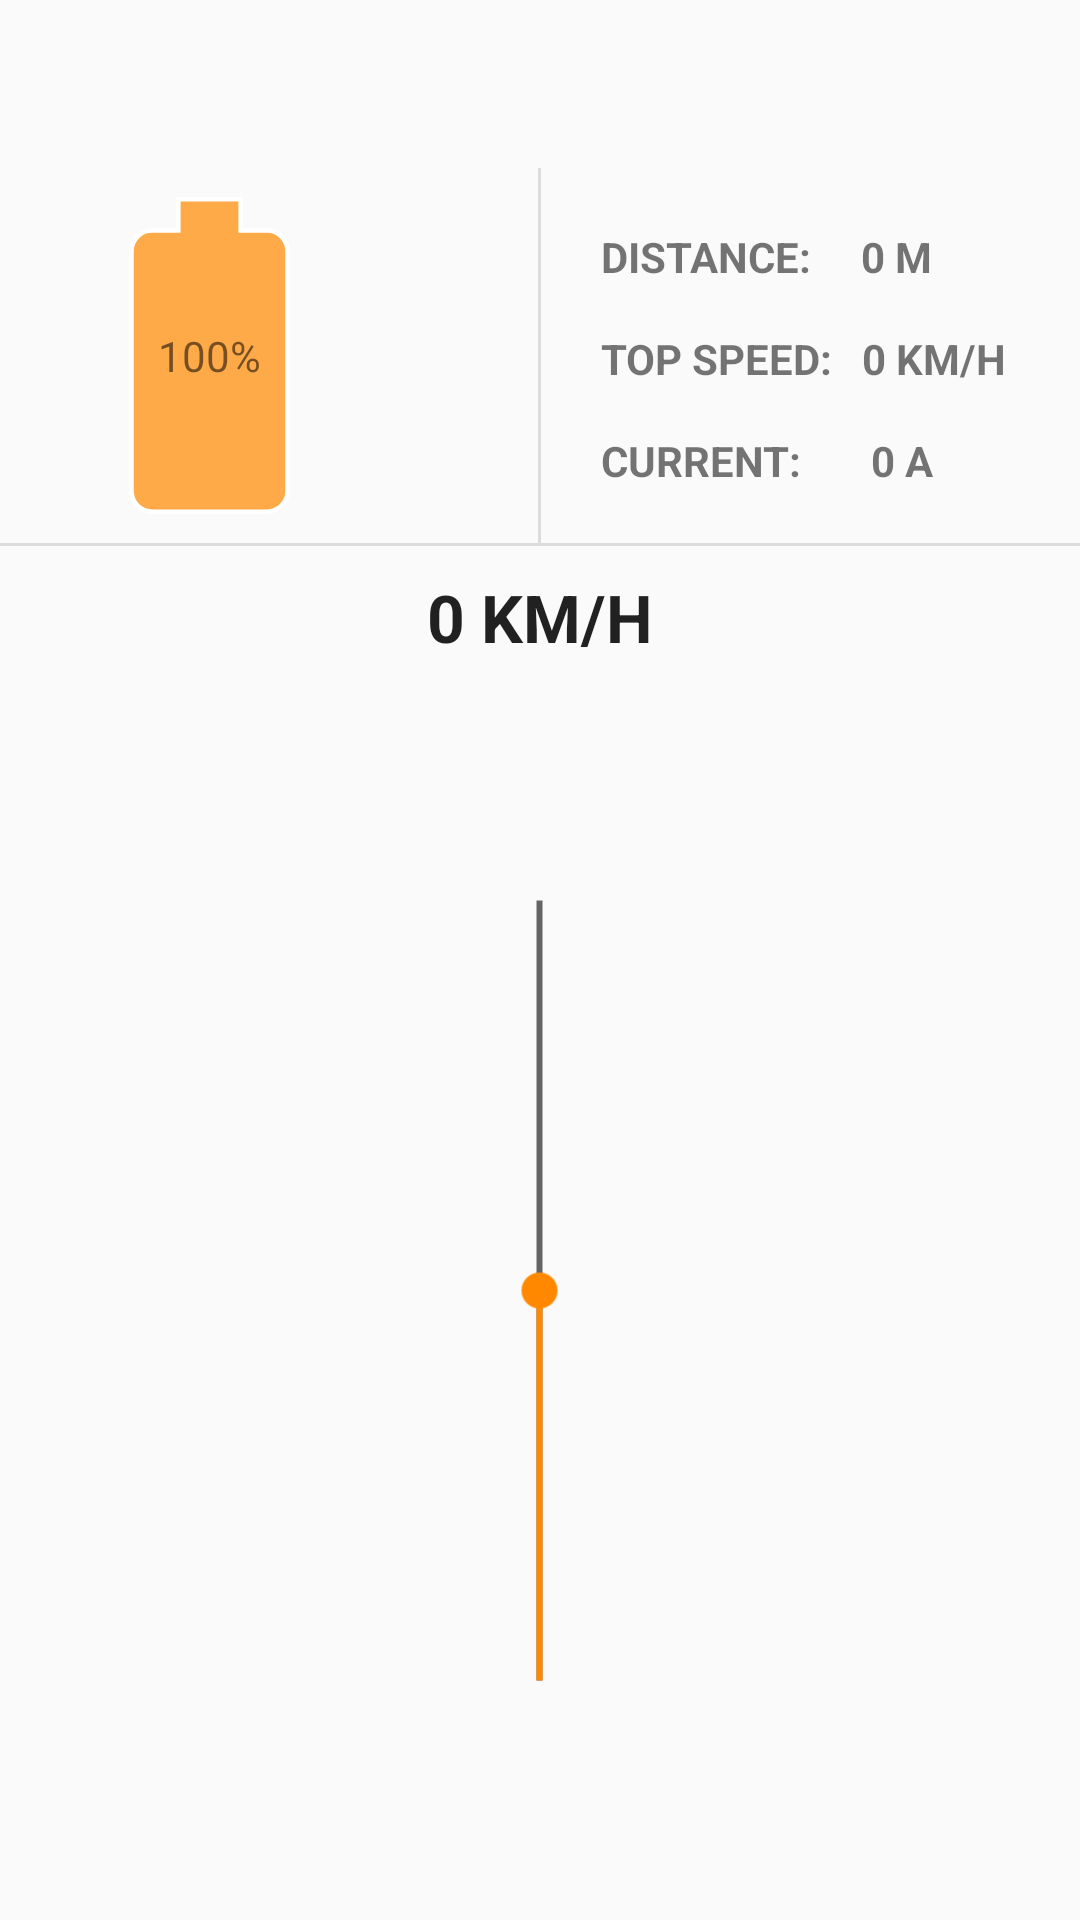

Icon bounding boxes for this 1080 x 1920 phone screenshot, format (x1, y1, x2, y2):
battery full: (133, 201, 286, 510)
